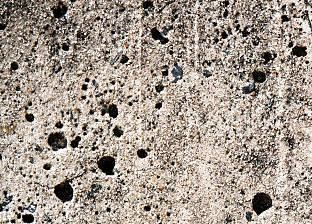Spalling: (1, 1, 312, 224)
